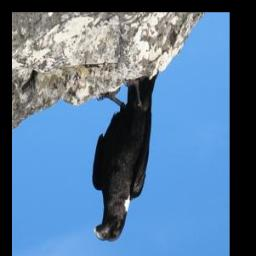Crow: (90, 69, 160, 246)
